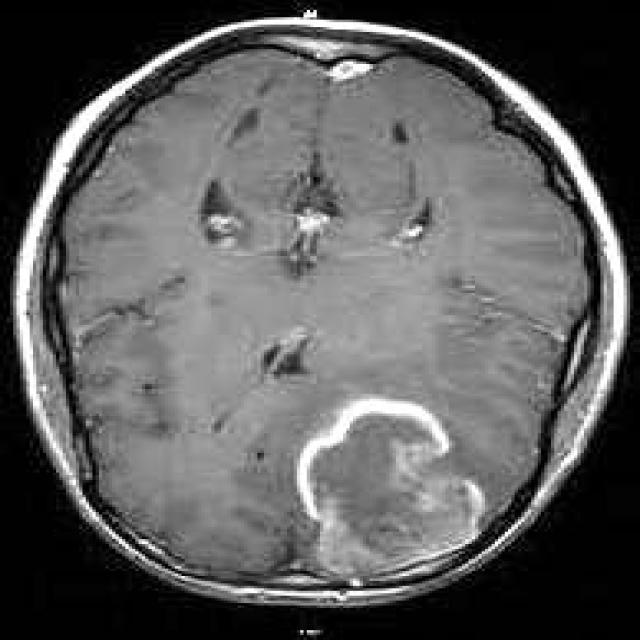Tumor-Cell: (289, 388, 462, 576)
